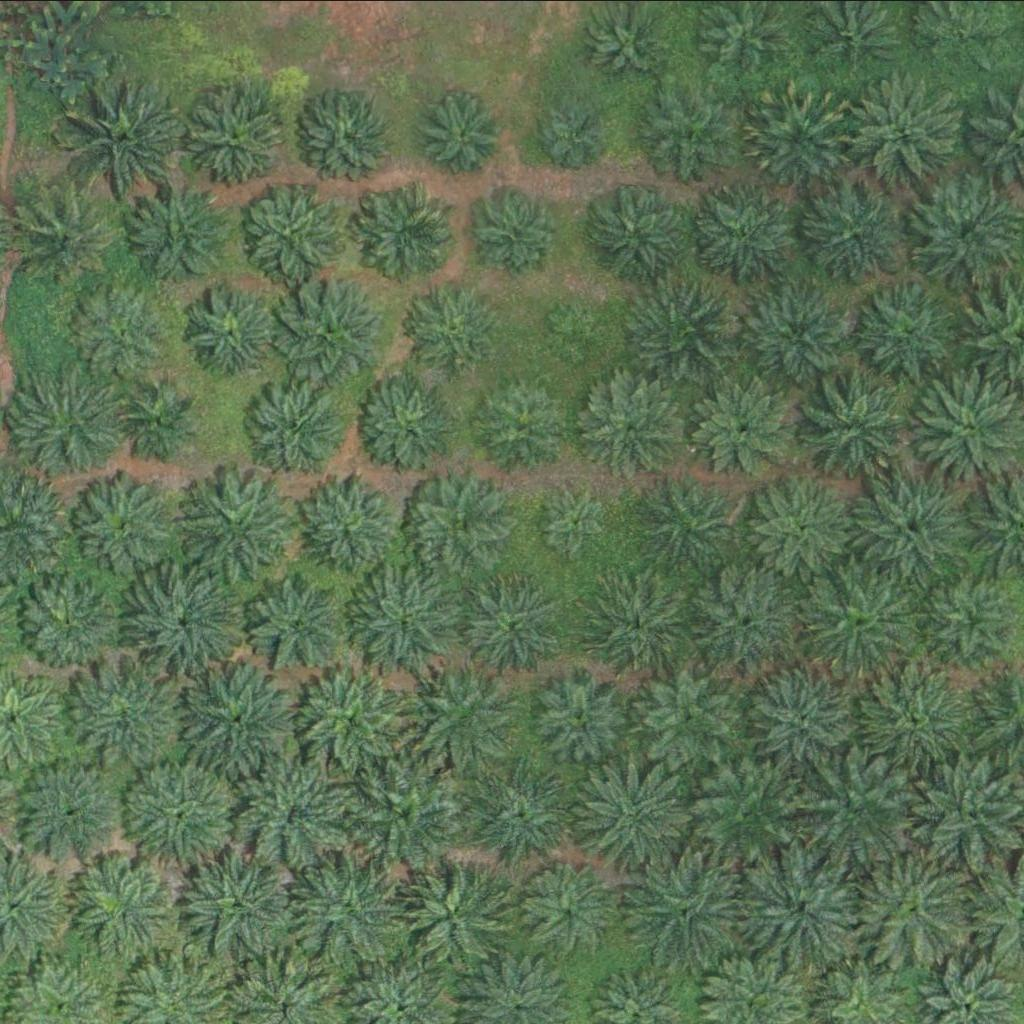Kelapa_Sawit: (13, 368, 127, 481), (234, 176, 348, 289), (273, 278, 387, 391), (687, 759, 801, 872), (623, 853, 737, 966), (797, 752, 911, 865), (13, 757, 126, 870), (67, 654, 180, 767), (177, 662, 290, 775), (743, 80, 856, 193), (584, 177, 697, 290), (352, 561, 465, 674), (298, 660, 411, 773), (297, 849, 410, 962), (396, 858, 509, 971), (745, 853, 858, 966), (858, 852, 971, 965), (796, 563, 909, 676), (856, 466, 969, 579), (847, 76, 960, 189), (67, 471, 181, 583), (748, 665, 862, 777), (856, 657, 970, 769), (70, 79, 183, 191), (184, 847, 297, 959), (127, 759, 240, 871), (239, 758, 352, 870), (120, 567, 233, 679), (185, 469, 298, 581), (128, 174, 241, 286), (692, 177, 805, 289), (621, 276, 734, 388), (743, 278, 856, 390), (693, 566, 806, 678), (409, 659, 522, 771), (349, 756, 462, 868), (461, 760, 574, 872), (573, 758, 686, 870), (797, 370, 910, 482), (850, 280, 963, 392), (18, 181, 119, 281), (71, 858, 172, 958), (249, 573, 350, 673), (184, 87, 285, 187), (640, 85, 741, 185), (403, 274, 504, 374), (352, 376, 453, 476), (471, 372, 572, 472), (579, 380, 680, 480), (690, 380, 791, 480), (297, 476, 398, 576), (409, 475, 510, 575), (635, 473, 736, 573), (751, 475, 852, 575), (458, 575, 559, 675), (591, 578, 692, 678), (535, 665, 636, 765), (638, 665, 739, 765), (805, 184, 906, 284), (15, 572, 115, 672), (248, 383, 348, 483), (71, 281, 171, 381), (183, 284, 283, 384), (298, 85, 398, 185), (358, 184, 458, 284), (517, 861, 617, 961), (422, 92, 510, 180), (933, 577, 1021, 665), (474, 191, 562, 278), (117, 385, 193, 460), (541, 487, 616, 562), (542, 104, 605, 167), (545, 303, 608, 365)
